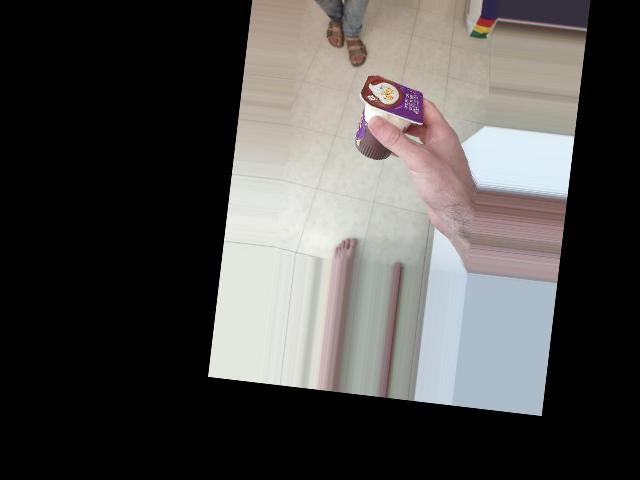milky: (325, 64, 418, 135)
